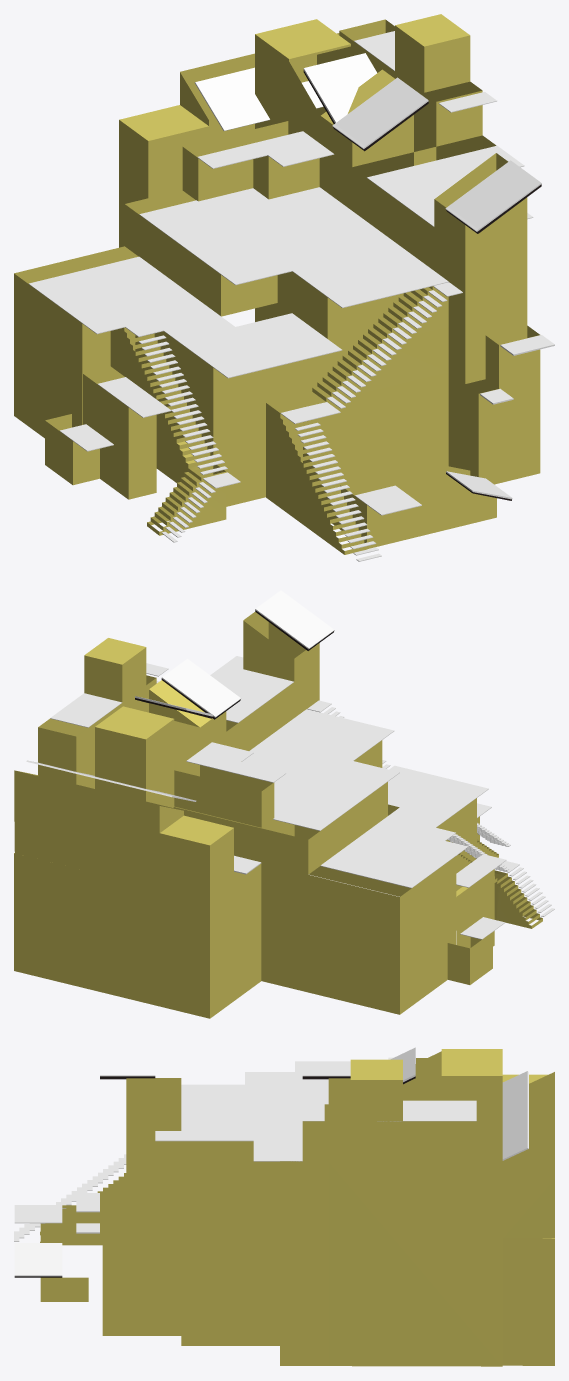
The model's file is town.FBX.
The picture shows the model from 3 angles, top to bottom: view 1: azimuth 30°, elevation 25°; view 2: azimuth 150°, elevation 25°; view 3: azimuth 270°, elevation 25°; orthographic projection. The views are drawn at different scales.
Visible parts, largest first — view 1: StraightStair004, snow058, roof008; view 2: StraightStair004, snow058, roof008; view 3: StraightStair004, snow058, roof008.
Boxes of the visible parts, x1,y1,x2,y2 form: StraightStair004: (14,14,540,554); snow058: (29,31,554,561); roof008: (303,70,541,500); StraightStair004: (14,612,542,1018); snow058: (26,590,554,939); roof008: (135,610,333,719); StraightStair004: (40,1049,554,1366); snow058: (14,1047,528,1276); roof008: (14,1076,415,1277).
Size of the model in its own units: 3252 by 2297 by 3935.
